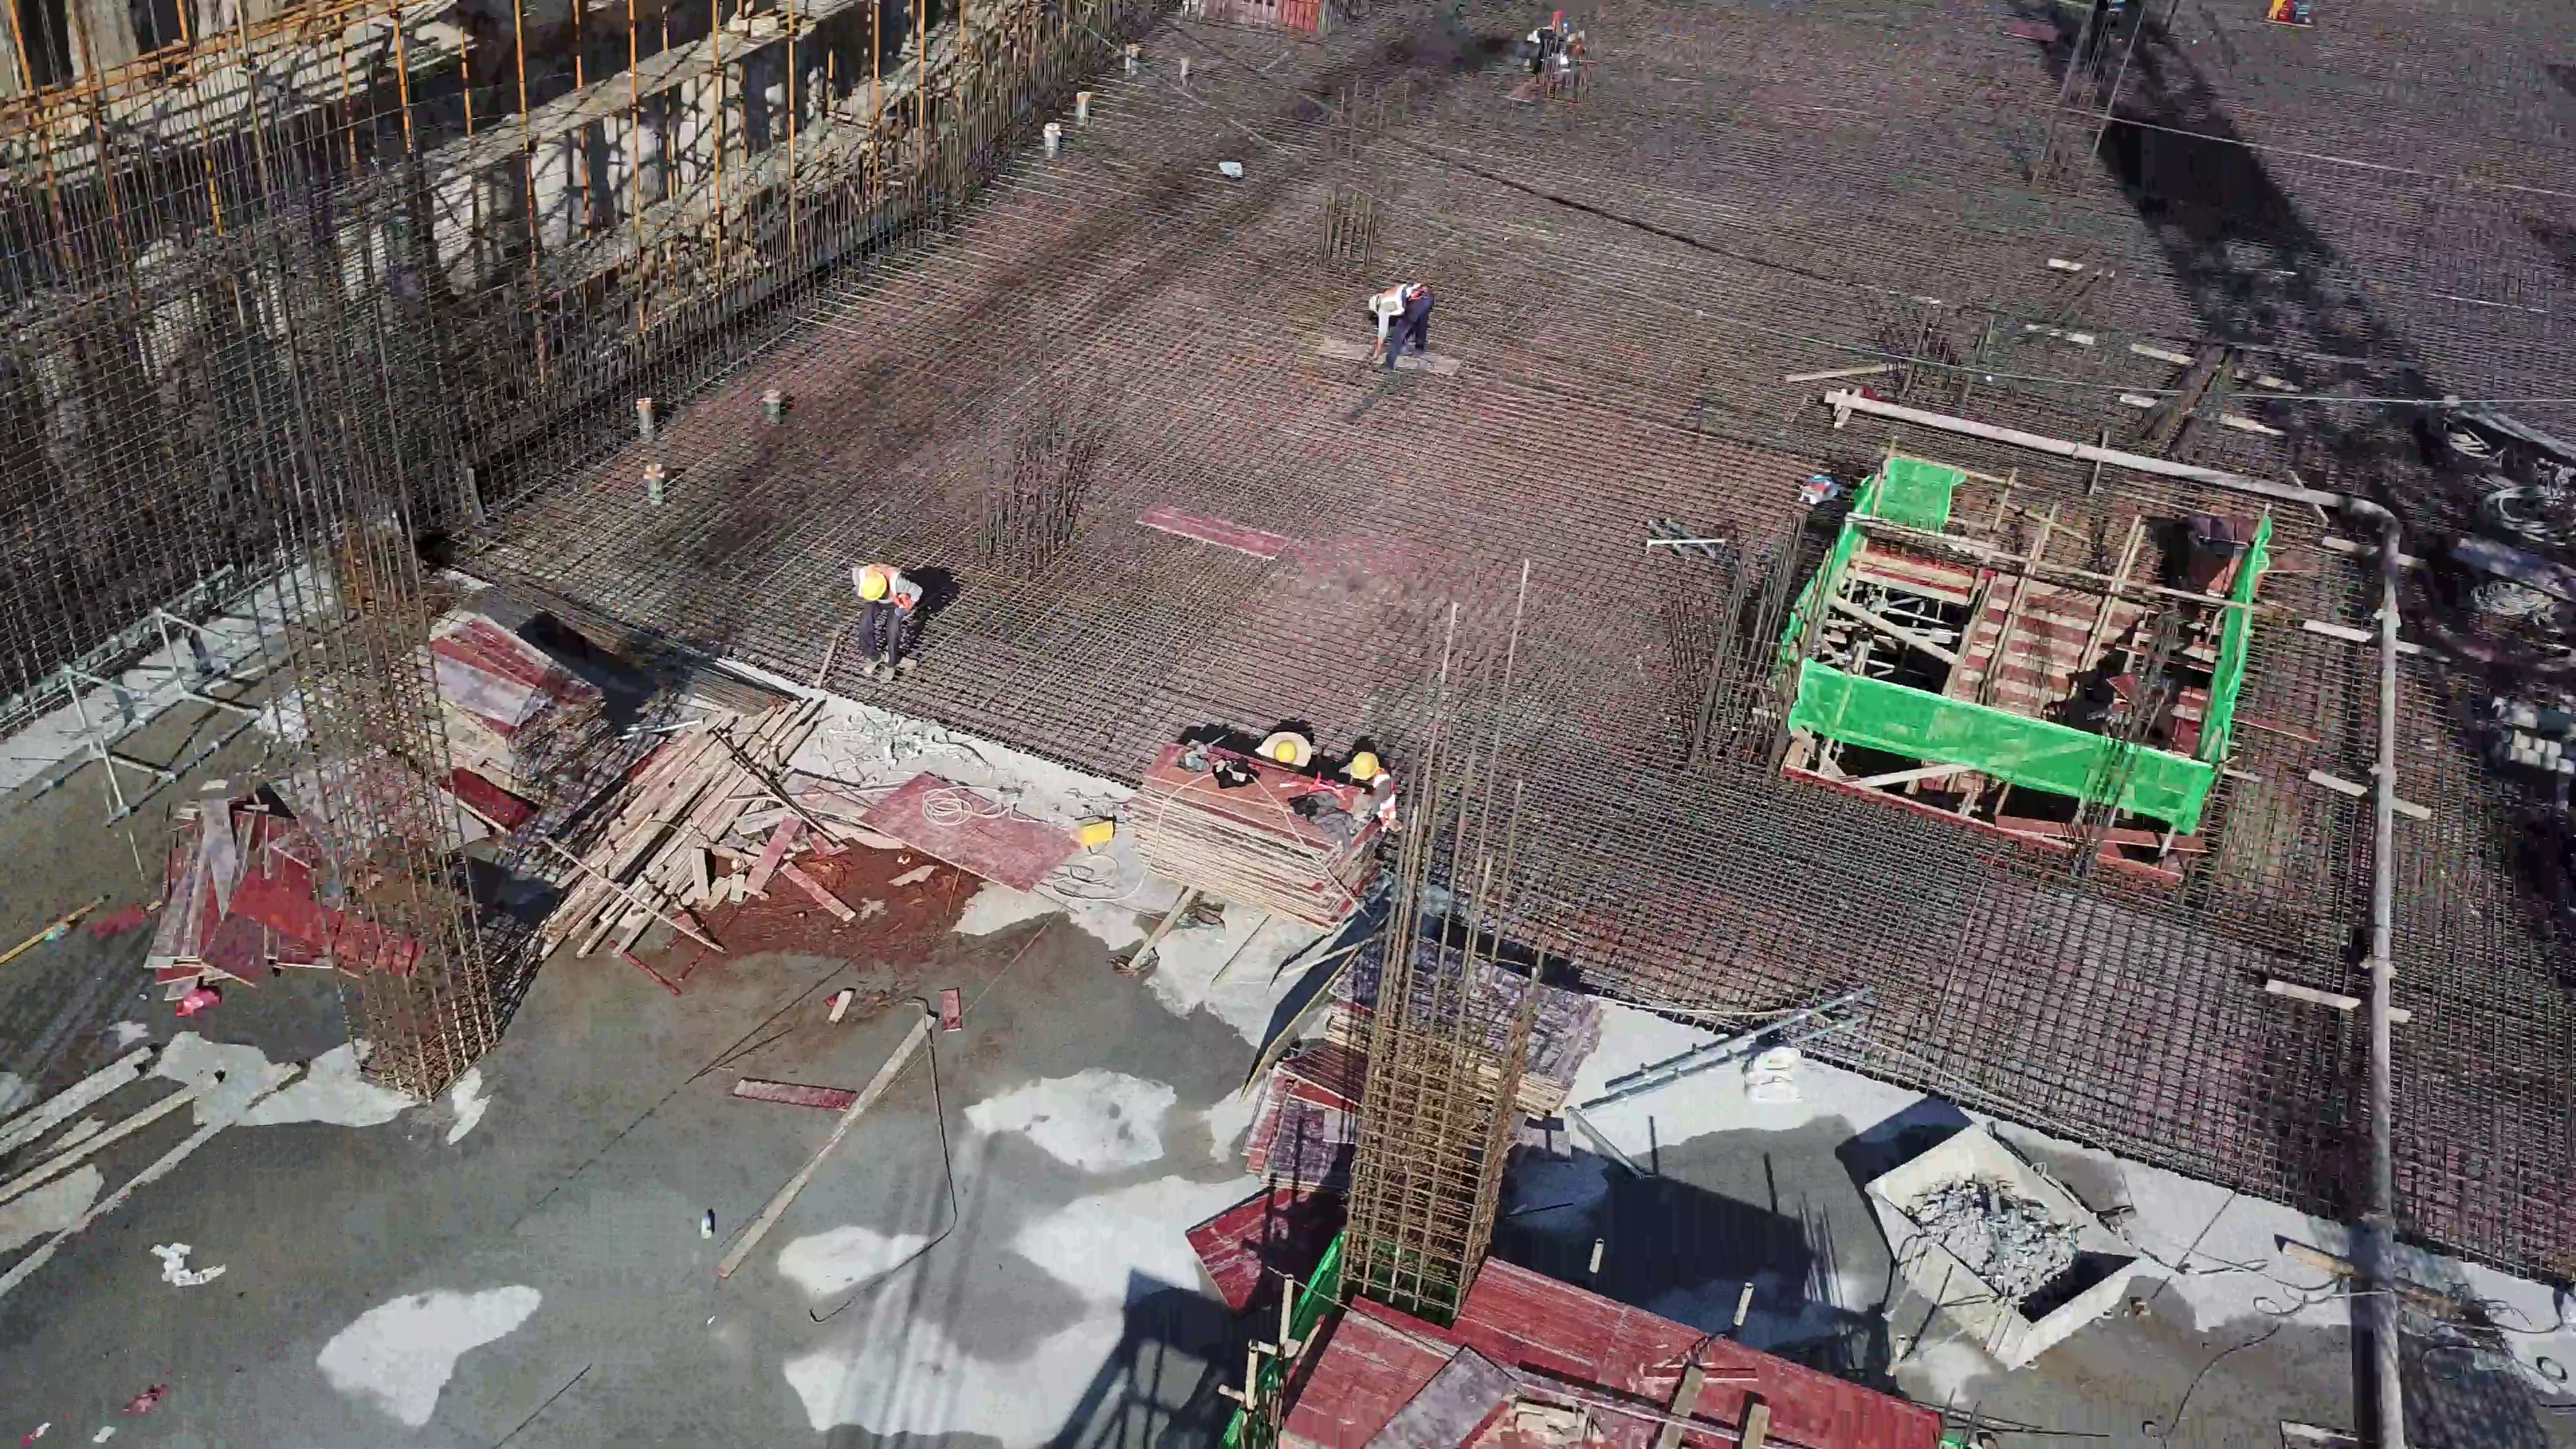board: (1322, 920, 1589, 1108), (1136, 733, 1351, 928), (453, 603, 608, 824)
helmet: (855, 565, 891, 606), (1346, 744, 1383, 783), (1366, 293, 1381, 316)
hopper: (1859, 1116, 2149, 1373)
person: (838, 555, 942, 686), (1352, 273, 1465, 382), (1347, 745, 1413, 843)
vest: (1378, 782, 1403, 831), (890, 568, 912, 609), (1383, 282, 1407, 318)
